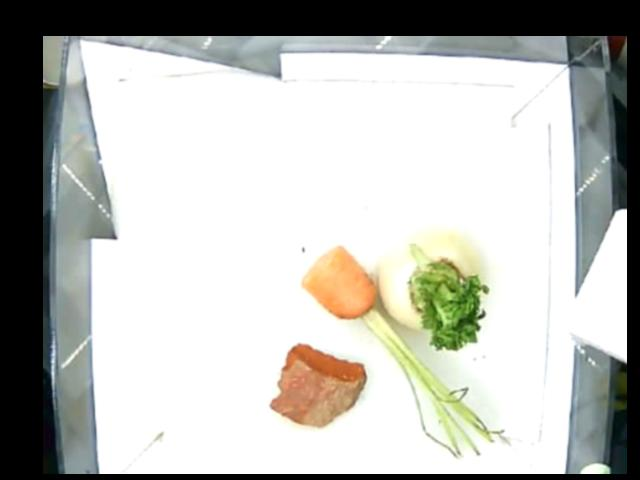Brisk: (269, 337, 364, 431)
Carrot: (299, 244, 387, 334)
Mooli: (380, 223, 482, 351)
